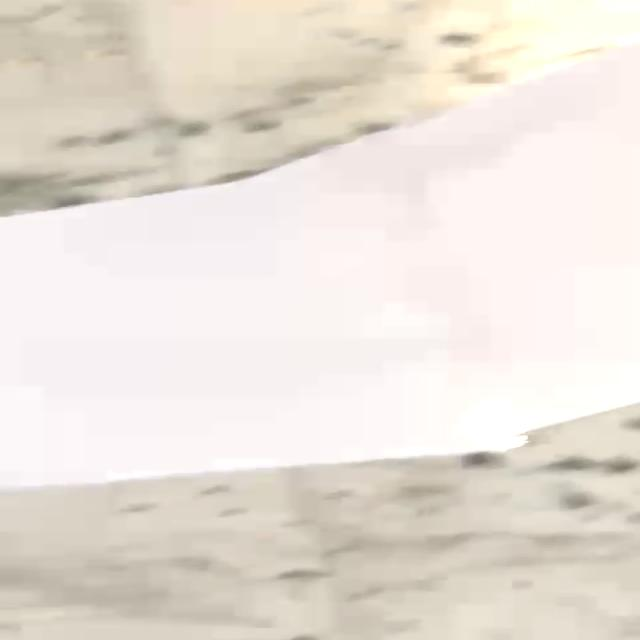road: (0, 36, 640, 494), (0, 36, 640, 494)
